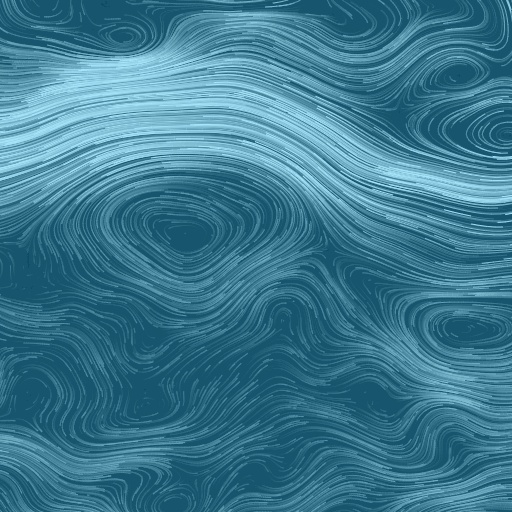eddy: (109, 183, 266, 286), (421, 302, 510, 359), (415, 54, 488, 98), (94, 16, 155, 55)
